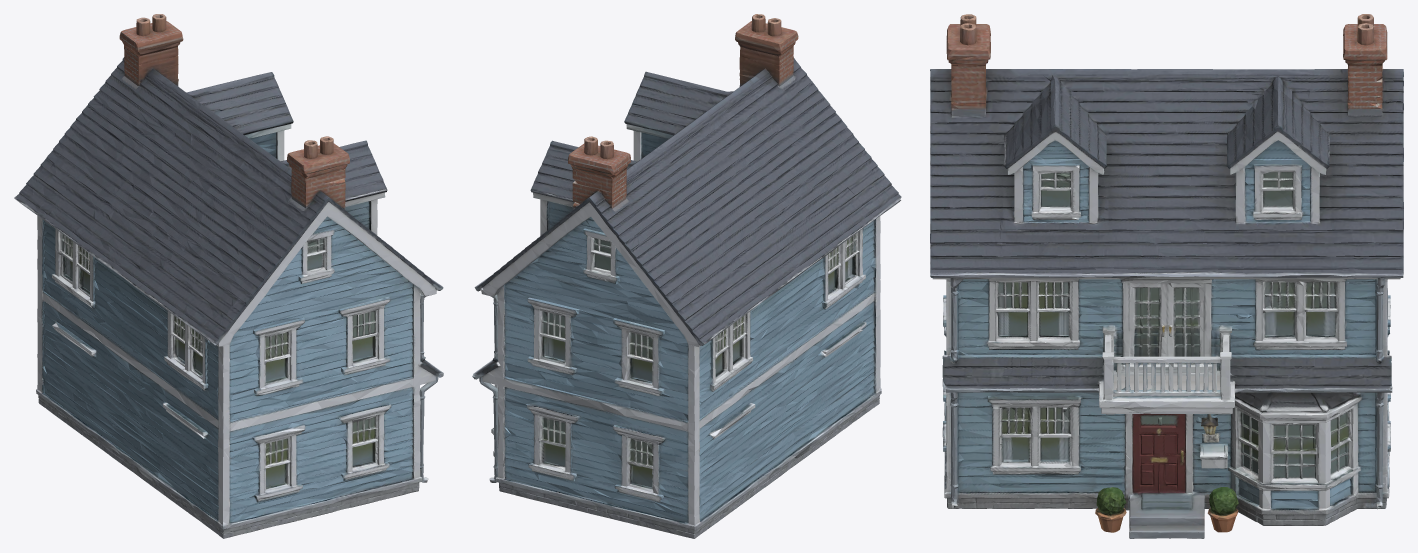
The model's file is house_2story_blue.glb.
3 renders of one model, left to right at view 1: azimuth 30°, elevation 25°; view 2: azimuth 150°, elevation 25°; view 3: azimuth 270°, elevation 25°, orthographic. The views are drawn at different scales.
Parts seen in each view (by area): view 1: tripo_node_68a831e3-f095-467a-930a-10fbb3591a81; view 2: tripo_node_68a831e3-f095-467a-930a-10fbb3591a81; view 3: tripo_node_68a831e3-f095-467a-930a-10fbb3591a81.
Boxes of the visible parts, x1,y1,x2,y2 form: tripo_node_68a831e3-f095-467a-930a-10fbb3591a81: (14, 14, 443, 538); tripo_node_68a831e3-f095-467a-930a-10fbb3591a81: (472, 14, 901, 538); tripo_node_68a831e3-f095-467a-930a-10fbb3591a81: (930, 14, 1403, 538).
Size of the model in its own units: 0.7551 by 1 by 0.9872.
Materials: 1 (1 with a texture image).
